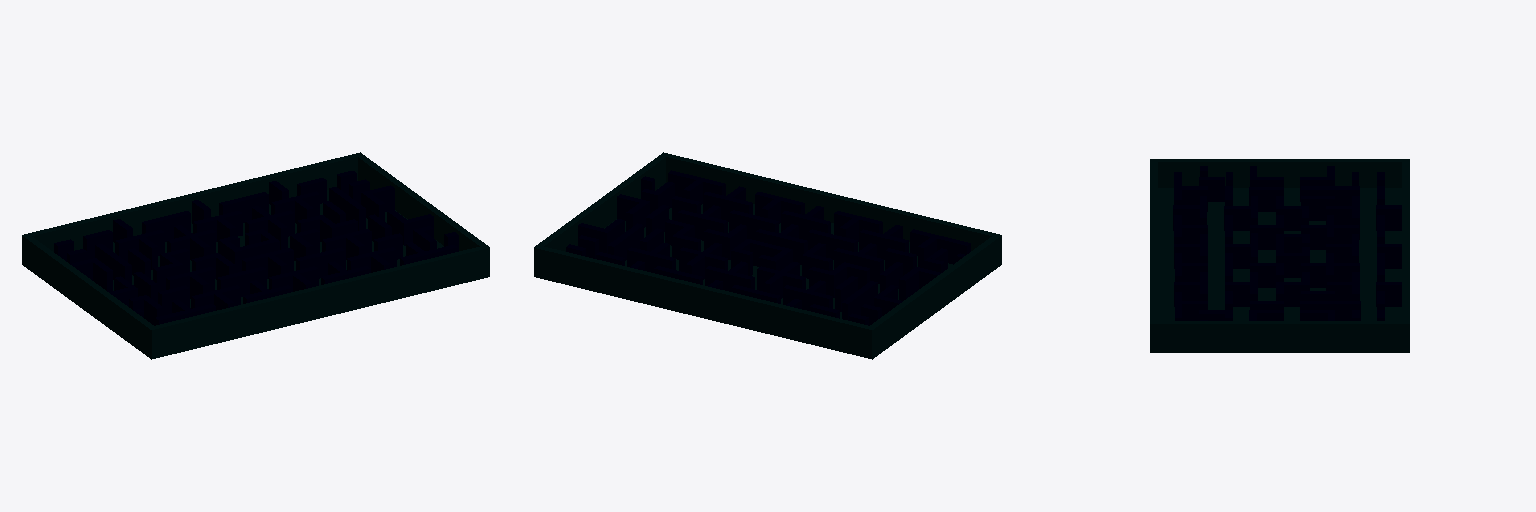
File: MAPA_textura.obj
3 views of the same model, side by side, from view 1: azimuth 30°, elevation 25°; view 2: azimuth 150°, elevation 25°; view 3: azimuth 270°, elevation 25° (orthographic).
Visible parts, largest first — view 1: Cube.005, Cube, Cube.001, Cube.002, Cube.003, Plane; view 2: Cube.005, Cube.001, Cube, Cube.002, Cube.003, Plane; view 3: Cube.005, Plane, Cube.003, Cube.002, Cube, Cube.001.
Part boxes in pixels (x1,y1,x2,y2): Cube.005: (67,171,458,325); Cube: (148,245,489,359); Cube.001: (22,152,362,266); Cube.002: (25,236,153,356); Cube.003: (358,155,485,250); Plane: (113,190,443,307); Cube.005: (566,170,970,325); Cube.001: (534,245,875,359); Cube: (661,152,1001,266); Cube.002: (870,236,998,356); Cube.003: (538,155,665,251); Plane: (604,188,952,318); Cube.005: (1173,166,1401,320); Plane: (1158,188,1401,320); Cube.003: (1158,321,1401,352); Cube.002: (1158,159,1401,187); Cube: (1150,159,1157,352); Cube.001: (1402,159,1409,352).
Size of the model in its own units: 152 by 12.54 by 101.